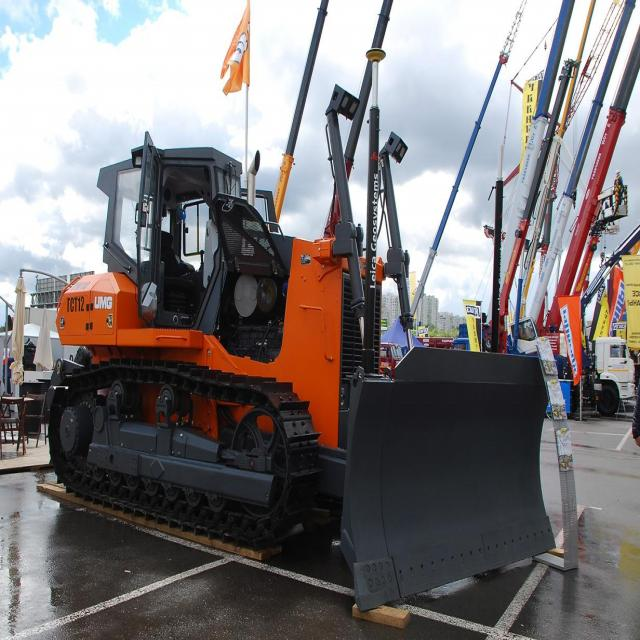Bulldozer: (49, 127, 572, 626)
